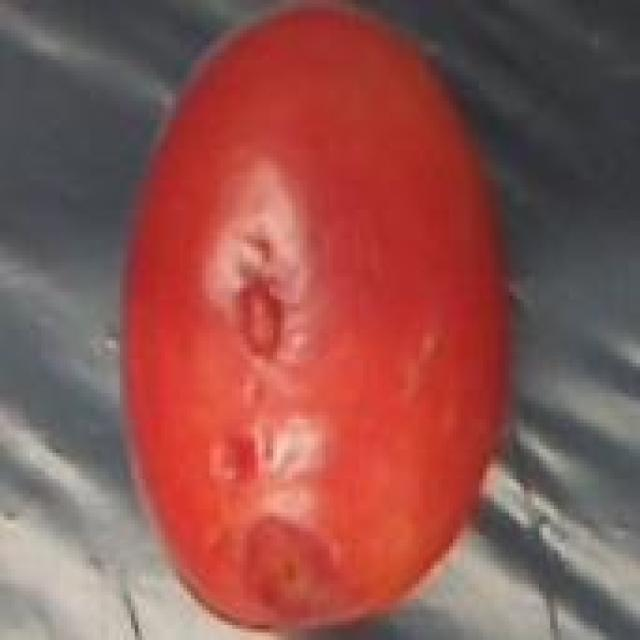overripe tomato: (94, 0, 528, 640)
